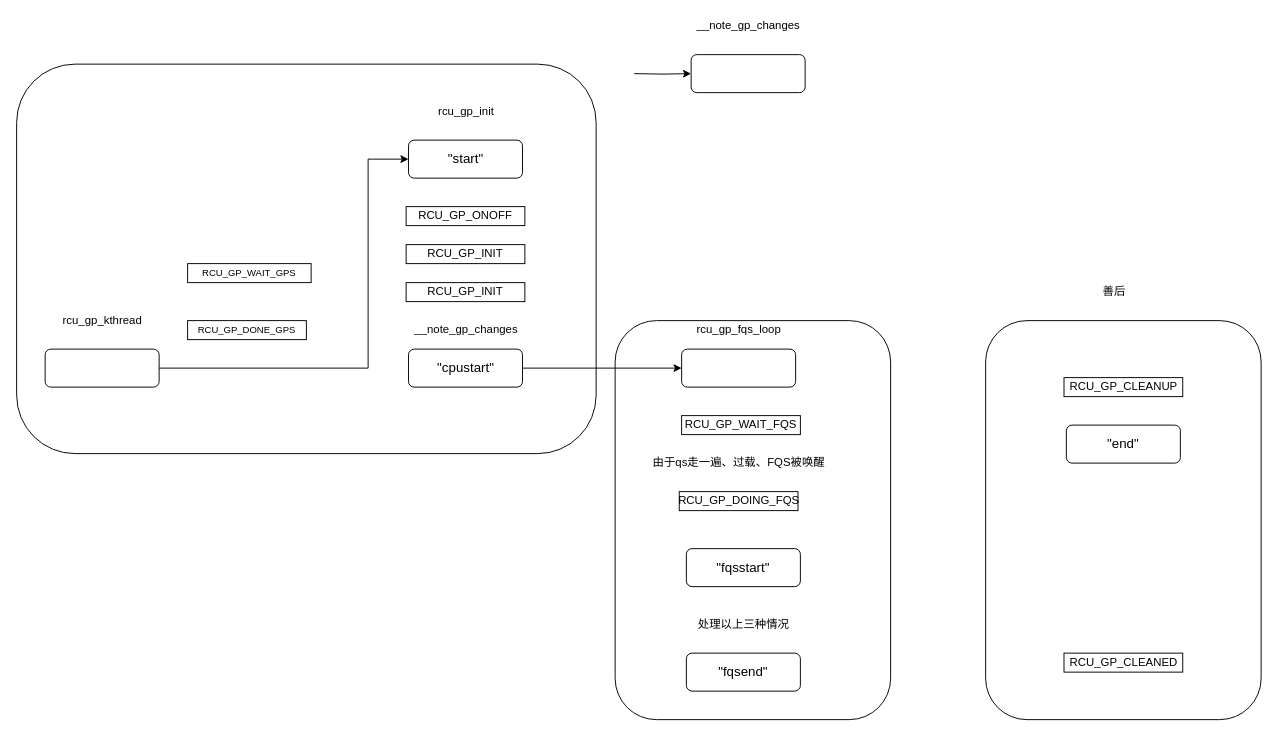
This 1278x736 diagram has some shape labels left out. The shapes that lost their labels are listed below. From the top down, each one's box as (x1, y1, x2, y2) in pixels, then its label:
(690, 54, 805, 93): "reqwaitsig"
(44, 348, 159, 387): "reqwait"
(681, 348, 796, 387): "fqswait"
